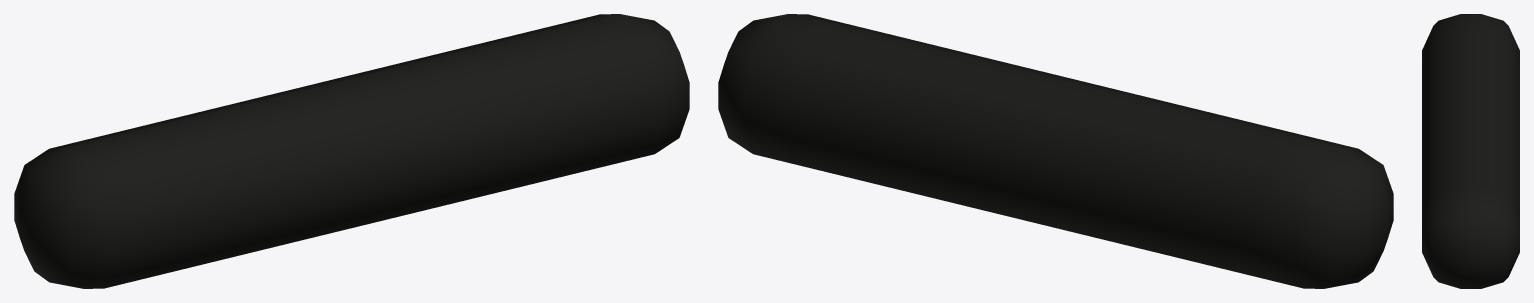
The model's file is Mouth.fbx.
3 renders of one model, left to right at view 1: azimuth 30°, elevation 25°; view 2: azimuth 150°, elevation 25°; view 3: azimuth 270°, elevation 25°, orthographic. The views are drawn at different scales.
Visible parts, largest first — view 1: Cube.042; view 2: Cube.042; view 3: Cube.042.
Part boxes in pixels (bbox=[...]): Cube.042: bbox=[14, 14, 689, 288]; Cube.042: bbox=[718, 14, 1393, 288]; Cube.042: bbox=[1422, 14, 1519, 288].
Size of the model in its own units: 1.16 by 0.2222 by 0.2222.
